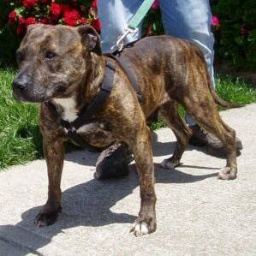dog: (10, 23, 256, 241)
